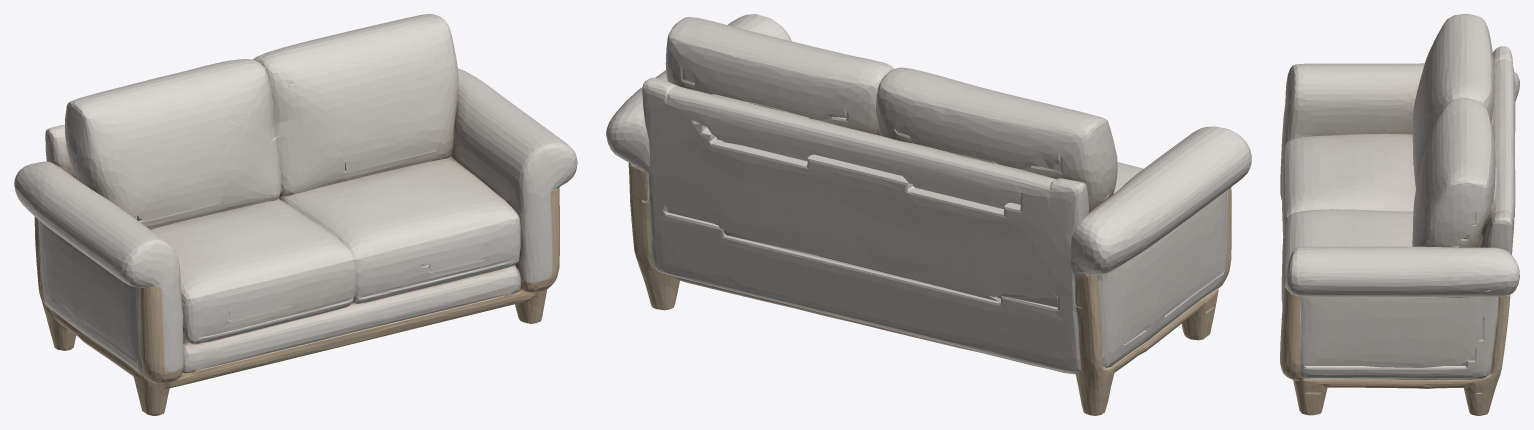
The picture shows the model from 3 angles, left to right: view 1: azimuth 30°, elevation 25°; view 2: azimuth 150°, elevation 25°; view 3: azimuth 270°, elevation 25°; orthographic projection. The views are drawn at different scales.
Parts seen in each view (by area): view 1: world; view 2: world; view 3: world.
Part boxes in pixels (x1,y1,x2,y2): world: [14, 14, 577, 415]; world: [606, 14, 1251, 415]; world: [1280, 14, 1519, 415].
Bounding box in the file's own units: 0.9991 × 0.5184 × 0.4853.
1 material, 1 textured.
